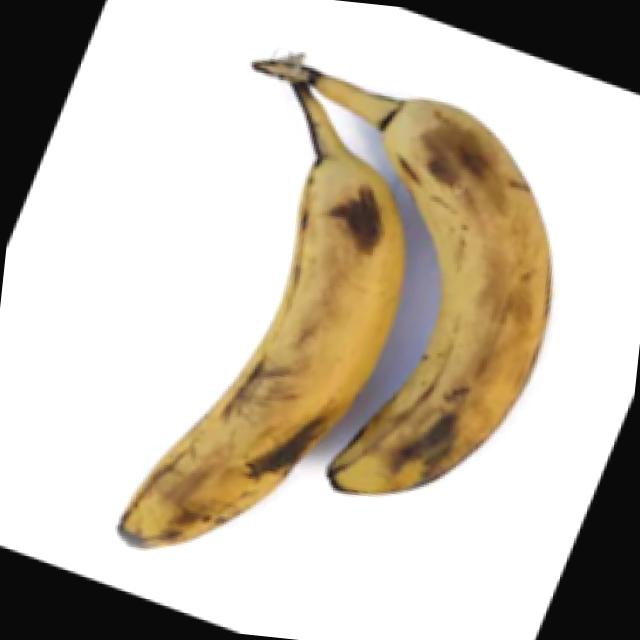Rotten_Banana: (64, 66, 412, 619), (323, 67, 568, 574)
